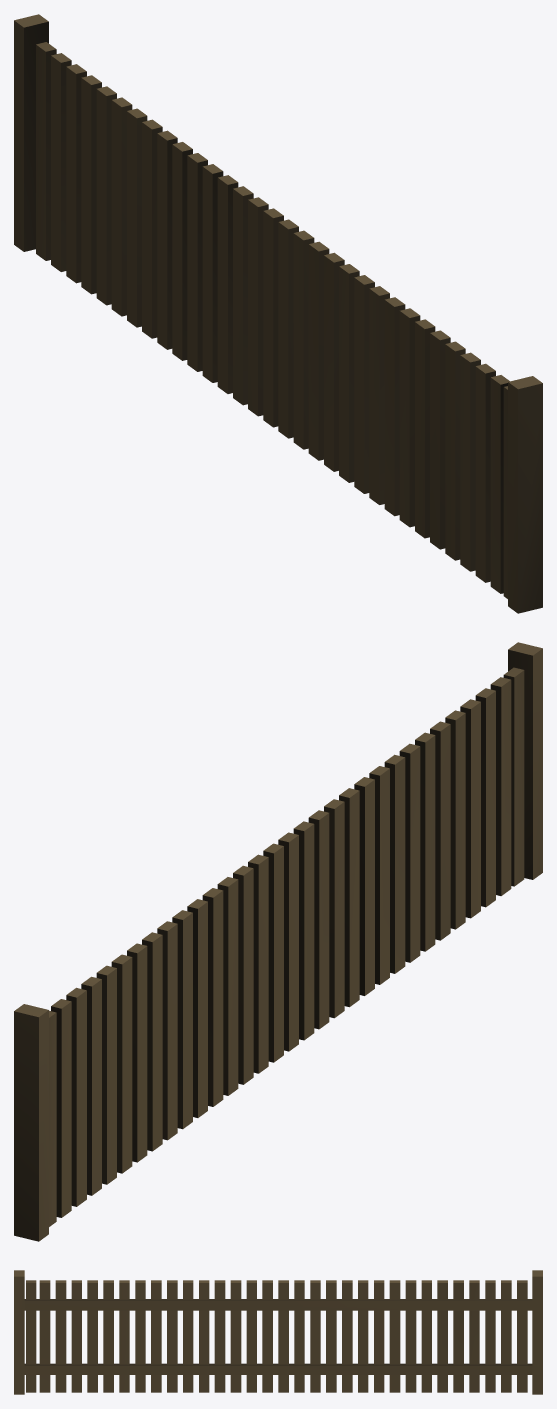
The model's file is Wood_Fence_Dence_Long.fbx.
3 views of the same model, one above another, from view 1: azimuth 30°, elevation 25°; view 2: azimuth 150°, elevation 25°; view 3: azimuth 270°, elevation 25° (orthographic). The views are drawn at different scales.
Visible parts, largest first — view 1: Wood_Fence_Dence_Long; view 2: Wood_Fence_Dence_Long; view 3: Wood_Fence_Dence_Long.
Boxes of the visible parts, bbox=[...] form: Wood_Fence_Dence_Long: bbox=[14, 14, 542, 613]; Wood_Fence_Dence_Long: bbox=[14, 642, 542, 1241]; Wood_Fence_Dence_Long: bbox=[14, 1270, 542, 1394].
Size of the model in its own units: 0.0103 by 0.0882 by 0.3592.
